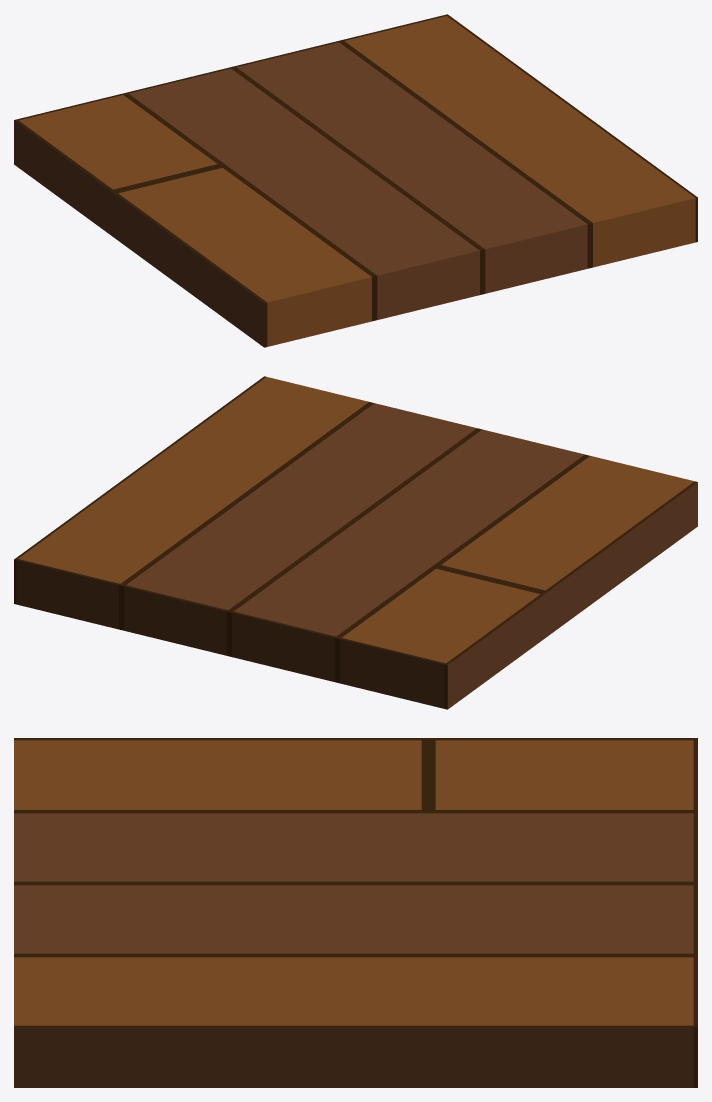
The model's file is Environment_WoodBoard_2.fbx.
The picture shows the model from 3 angles, top to bottom: view 1: azimuth 30°, elevation 25°; view 2: azimuth 150°, elevation 25°; view 3: azimuth 270°, elevation 25°; orthographic projection. The views are drawn at different scales.
Visible parts, largest first — view 1: polySurface5; view 2: polySurface5; view 3: polySurface5.
Boxes of the visible parts, box(x1,y1,x2,y2) form: polySurface5: box(14, 14, 697, 347); polySurface5: box(14, 376, 697, 709); polySurface5: box(14, 738, 697, 1087).
Size of the model in its own units: 200 by 19.58 by 200.
